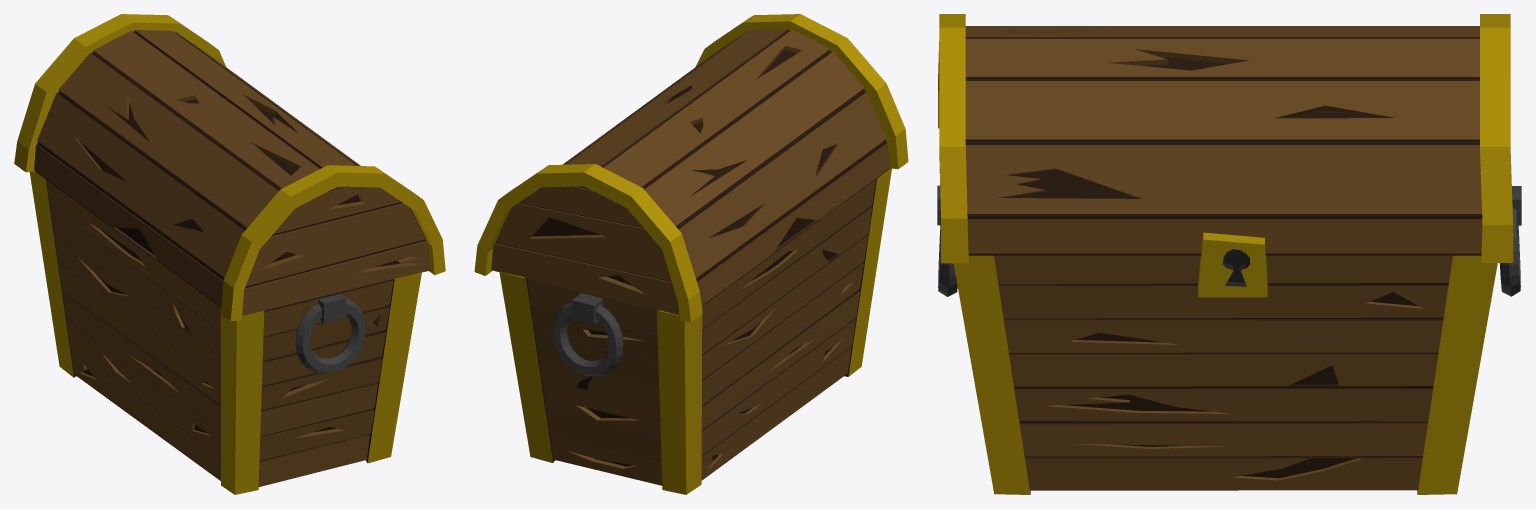
File: Chest.fbx
3 renders of one model, left to right at view 1: azimuth 30°, elevation 25°; view 2: azimuth 150°, elevation 25°; view 3: azimuth 270°, elevation 25°, orthographic. The views are drawn at different scales.
Parts seen in each view (by area): view 1: Chest; view 2: Chest; view 3: Chest.
Boxes of the visible parts, x1,y1,x2,y2 form: Chest: (14, 14, 445, 494); Chest: (474, 14, 908, 494); Chest: (937, 14, 1521, 494).
Size of the model in its own units: 238 by 336 by 423.
